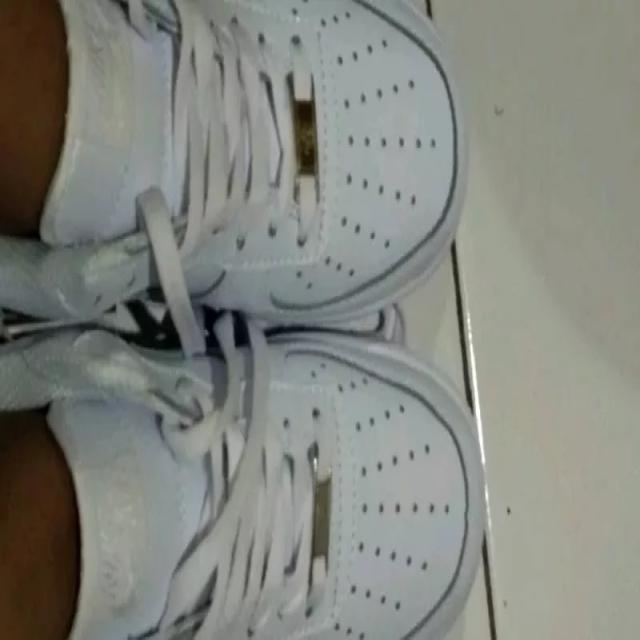nike fake air force: (0, 6, 489, 338), (0, 325, 492, 640)
